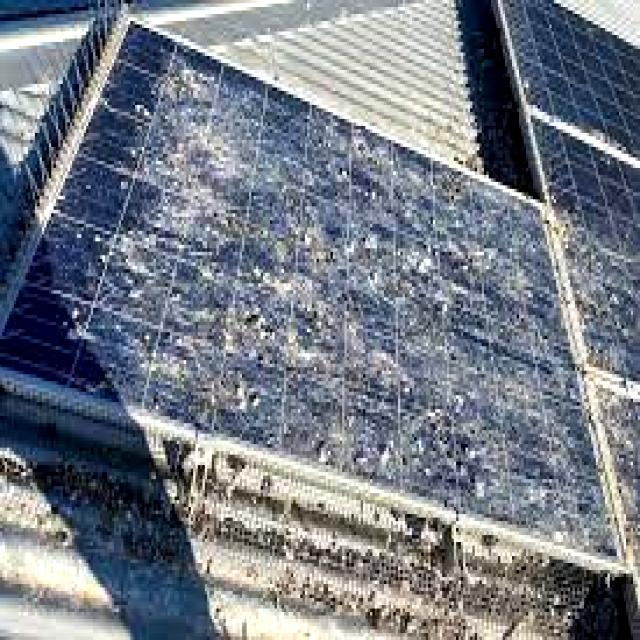bird: (144, 186, 298, 312), (311, 141, 428, 277), (115, 333, 266, 418), (444, 167, 531, 297), (122, 38, 218, 144), (458, 336, 554, 439), (288, 384, 412, 462), (46, 235, 124, 348)
